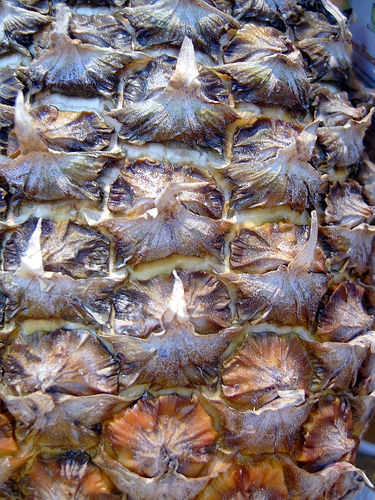pineapple: (0, 0, 370, 498)
